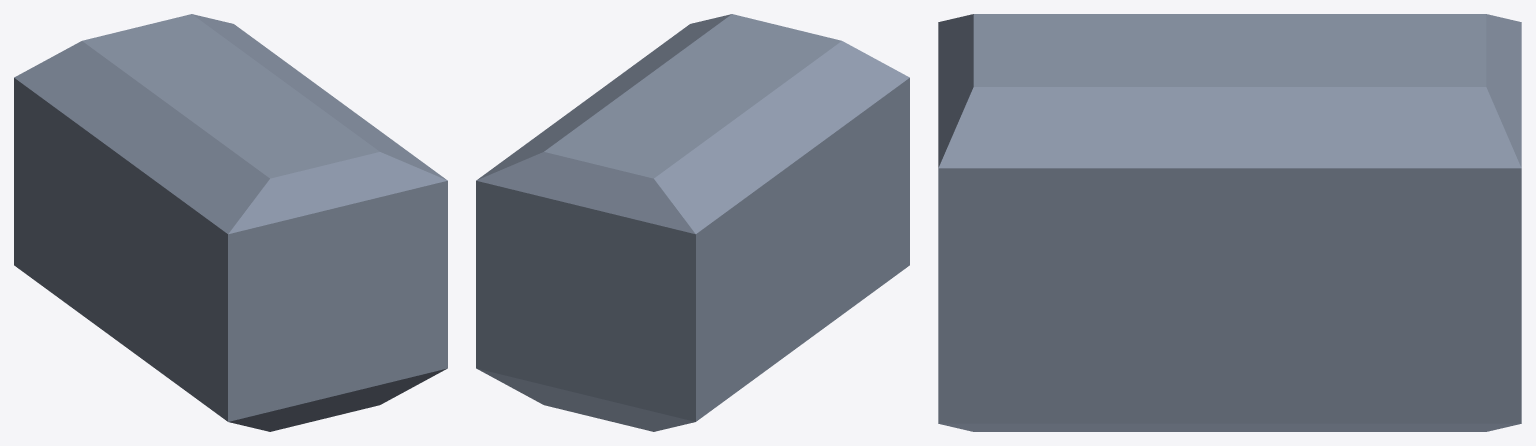
The model's file is 8_Rock.fbx.
3 views of the same model, side by side, from view 1: azimuth 30°, elevation 25°; view 2: azimuth 150°, elevation 25°; view 3: azimuth 270°, elevation 25° (orthographic). The views are drawn at different scales.
Parts seen in each view (by area): view 1: pasted__pCube113; view 2: pasted__pCube113; view 3: pasted__pCube113.
Part boxes in pixels (bbox=[...]): pasted__pCube113: bbox=[14, 14, 447, 431]; pasted__pCube113: bbox=[476, 14, 909, 431]; pasted__pCube113: bbox=[938, 14, 1521, 431].
Bounding box in the file's own units: 0.2894 × 0.3186 × 0.4881.
